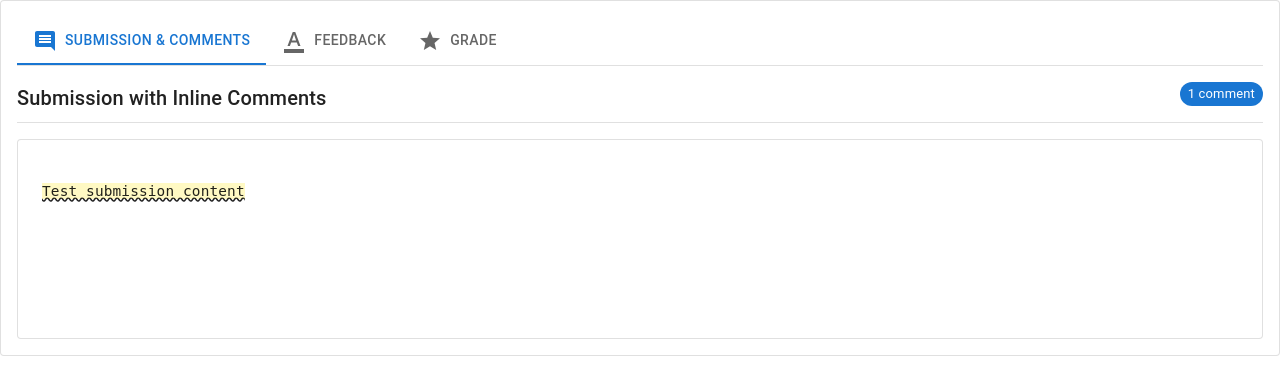
Test: EnhancedGrading Component › displays read-only mode correctly
The image size is (1280, 373).
# Navigate to the Grade tab
Click the tab "Grade".
click(457, 41)  # box [402,17,513,65]
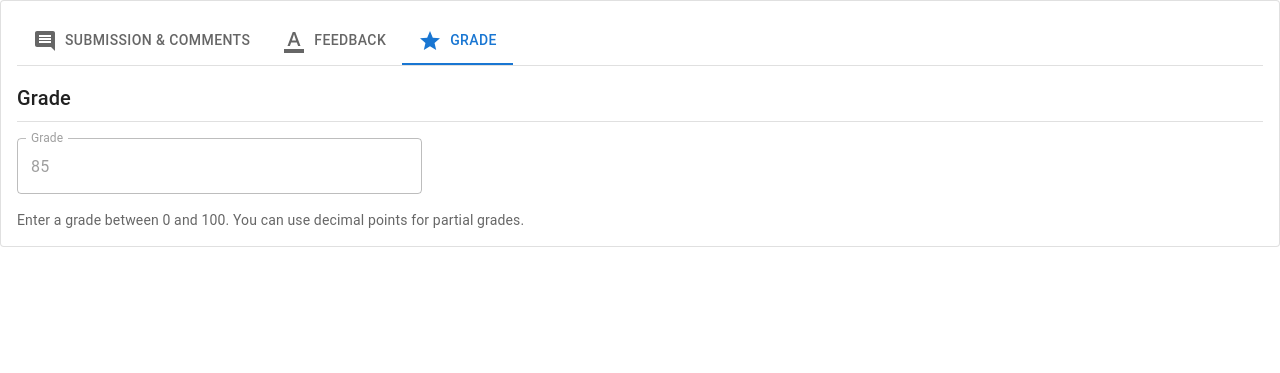
Expected: the number field labelled "Grade" is disabled, [17,138,422,194]
